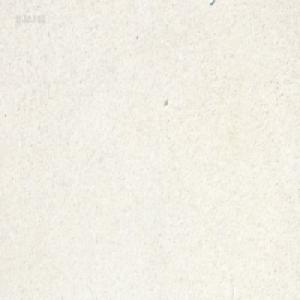Wrench: (208, 0, 215, 5)
